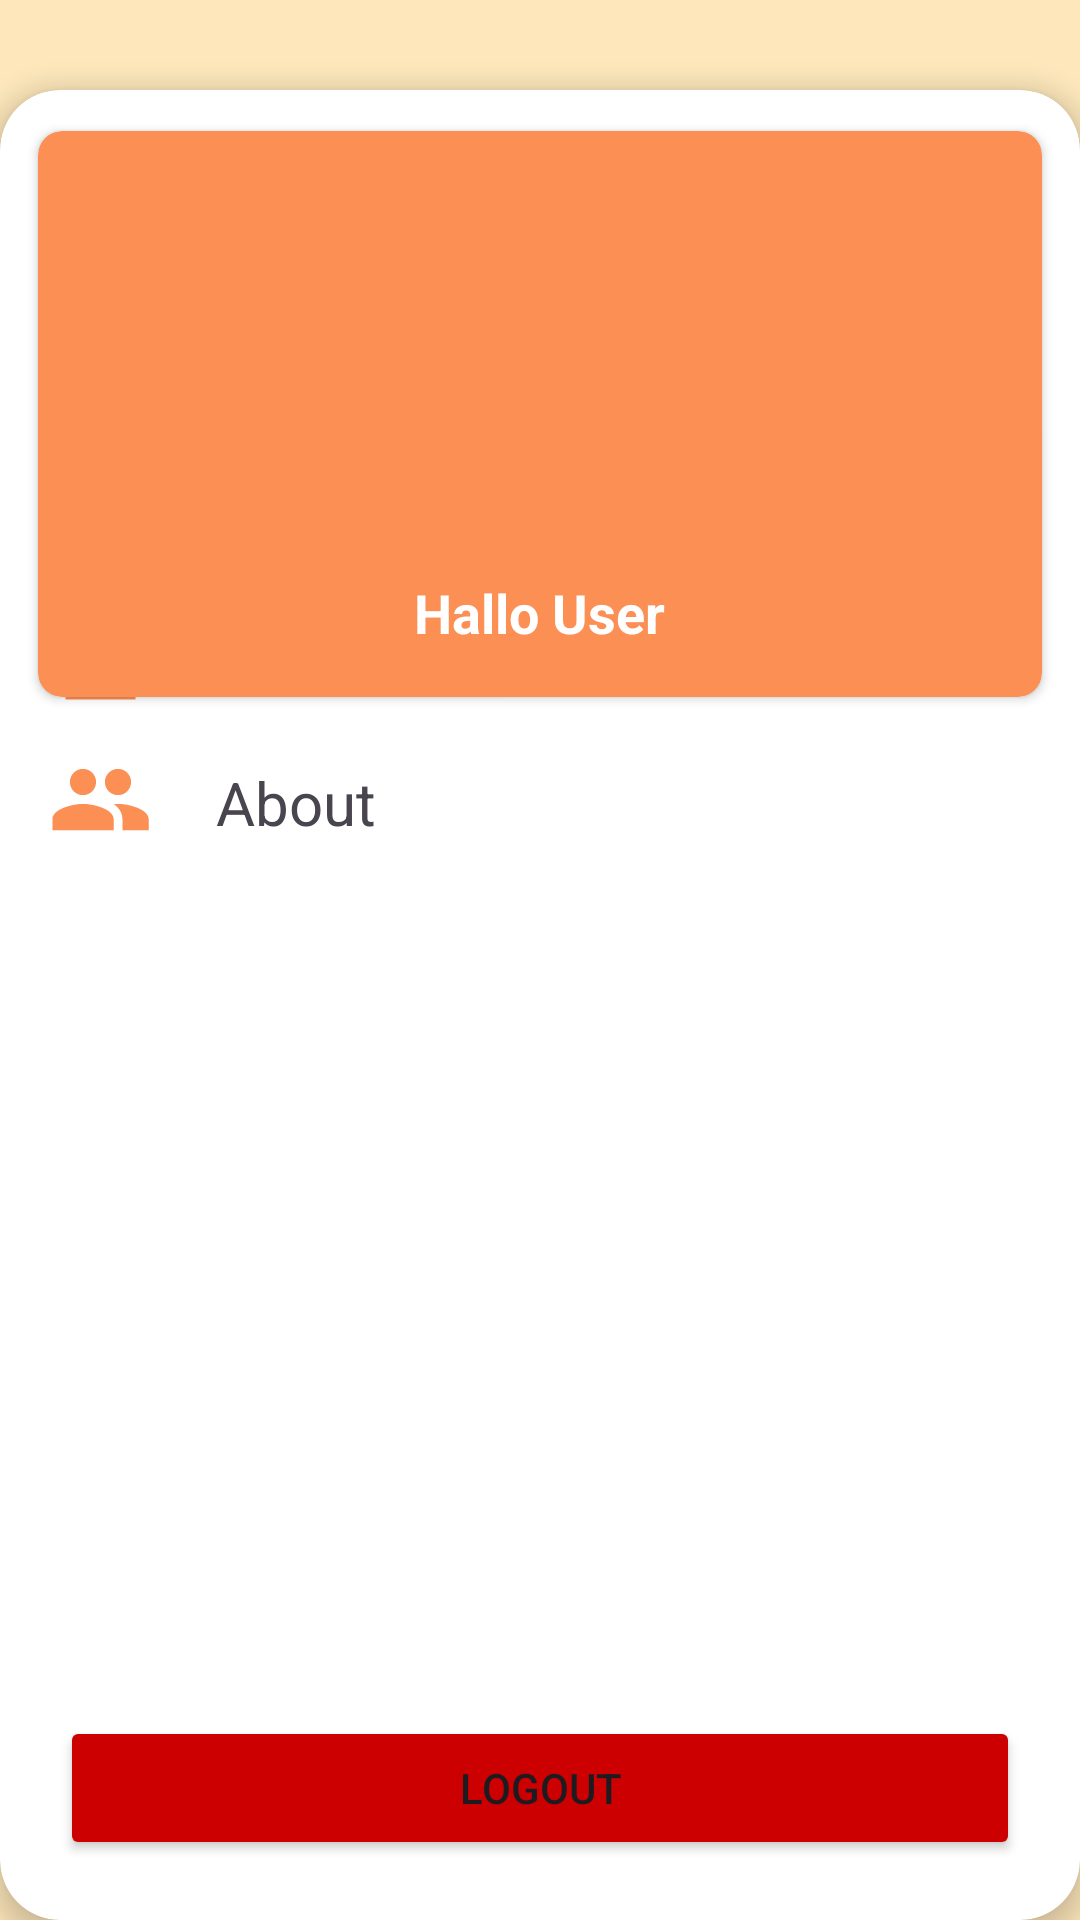

Named icons in this screenshot (1080 x 1920) and their bounding boxes, (x1, y1, x2, y2):
person: (52, 769, 149, 831)
